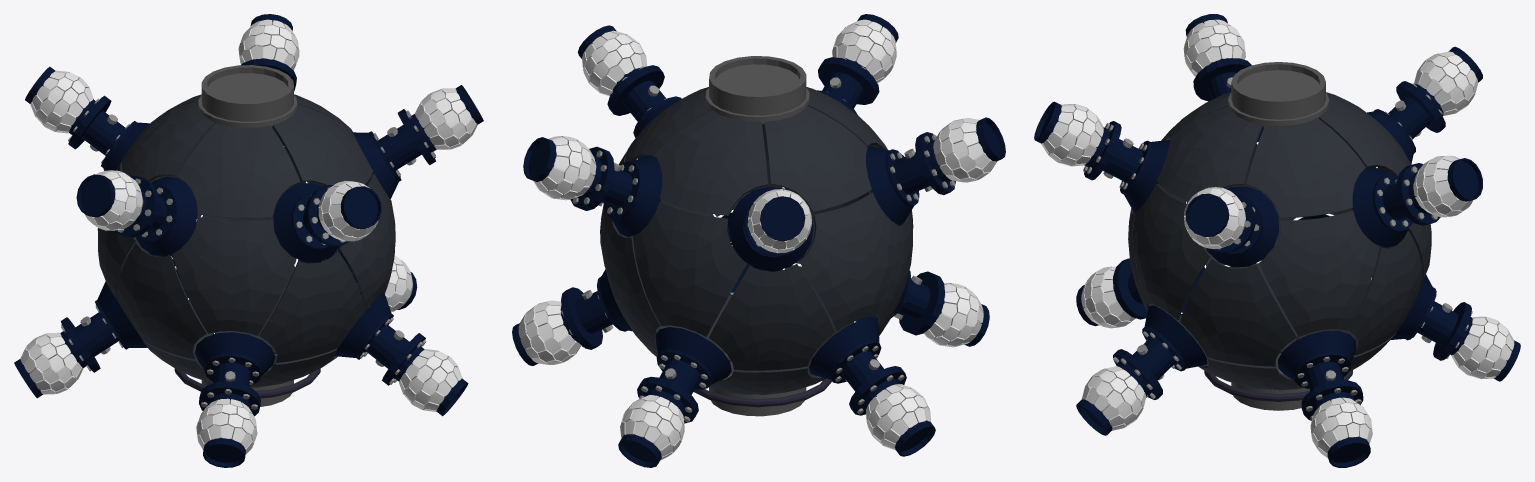
The model's file is NuclearReactor.fbx.
3 views of the same model, side by side, from view 1: azimuth 30°, elevation 25°; view 2: azimuth 150°, elevation 25°; view 3: azimuth 270°, elevation 25° (orthographic). The views are drawn at different scales.
Parts seen in each view (by area): view 1: polySurface122, pCylinder68.074, pCylinder68.220, pCylinder6.001, pCylinder68.203, pTorus1; view 2: polySurface122, pCylinder68.074, pCylinder68.220, pCylinder6.001, pCylinder68.203, pTorus1; view 3: polySurface122, pCylinder68.074, pCylinder68.220, pCylinder6.001, pCylinder68.203, pTorus1.
Boxes of the visible parts, <box> form: polySurface122: <box>97,94,395,387</box>; pCylinder68.074: <box>14,14,483,467</box>; pCylinder68.220: <box>20,19,477,454</box>; pCylinder6.001: <box>198,65,297,406</box>; pCylinder68.203: <box>61,58,435,409</box>; pTorus1: <box>174,368,320,398</box>; polySurface122: <box>600,87,913,394</box>; pCylinder68.074: <box>512,14,1005,467</box>; pCylinder68.220: <box>518,19,997,460</box>; pCylinder6.001: <box>705,56,809,416</box>; pCylinder68.203: <box>561,58,955,422</box>; pTorus1: <box>693,378,831,407</box>; polySurface122: <box>1128,92,1431,390</box>; pCylinder68.074: <box>1034,14,1520,467</box>; pCylinder68.220: <box>1041,19,1514,457</box>; pCylinder6.001: <box>1228,62,1329,410</box>; pCylinder68.203: <box>1083,58,1472,420</box>; pTorus1: <box>1204,336,1352,401</box>.
Bounding box in the file's own units: 473 × 344 × 491.
